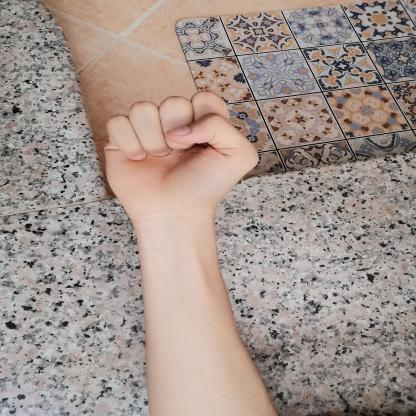SAD: (84, 78, 272, 230)
